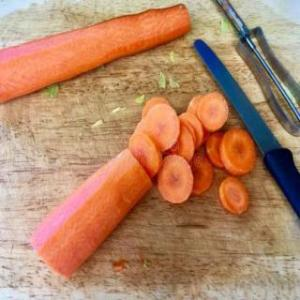carrot: (0, 4, 192, 109), (28, 148, 154, 282)
